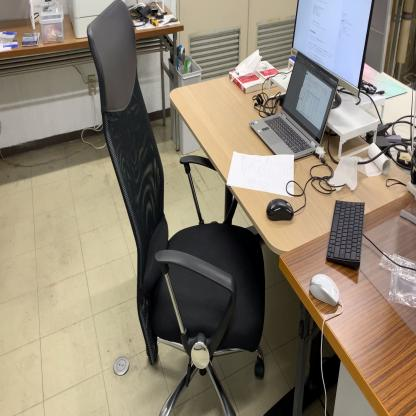chair: (86, 0, 267, 416)
